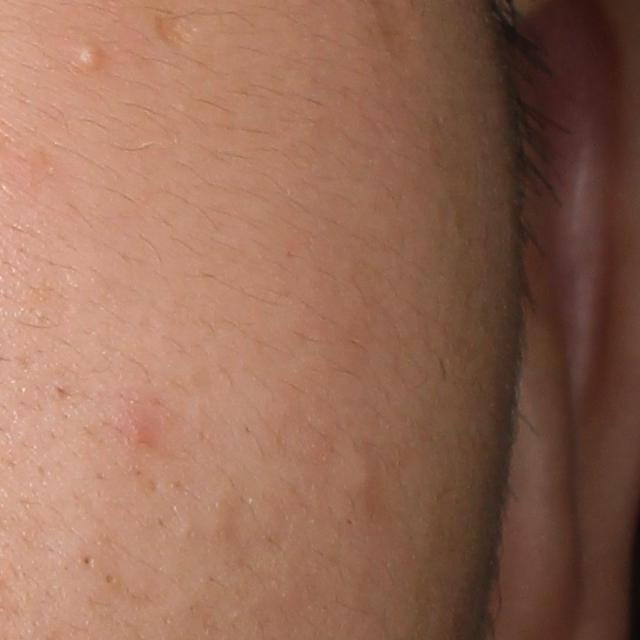atrophic_scar: (152, 10, 199, 52)
comedo: (343, 454, 380, 496), (75, 39, 106, 73), (71, 547, 99, 570), (94, 570, 120, 594)
papule: (110, 397, 155, 449)
